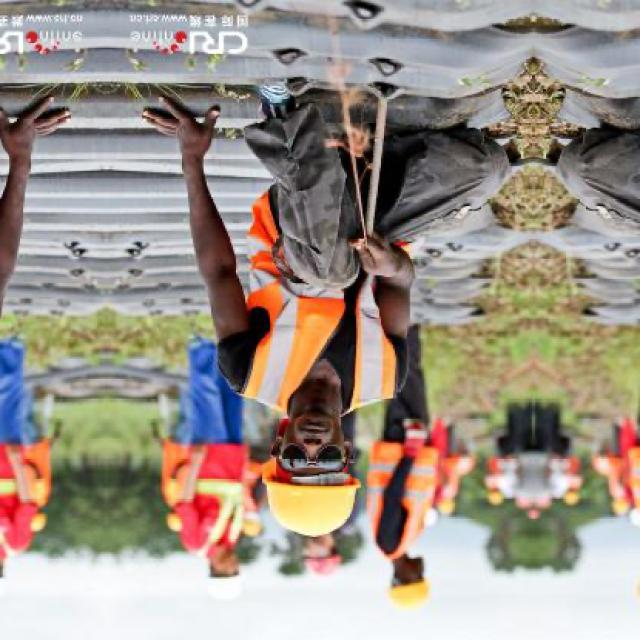con casco: (242, 372, 376, 540), (339, 525, 456, 616), (186, 528, 258, 608)
